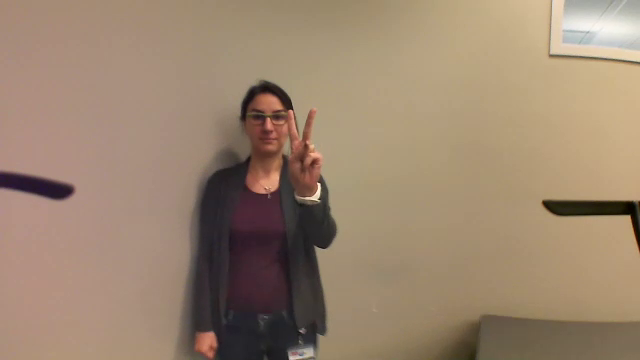peace: (282, 105, 331, 197)
